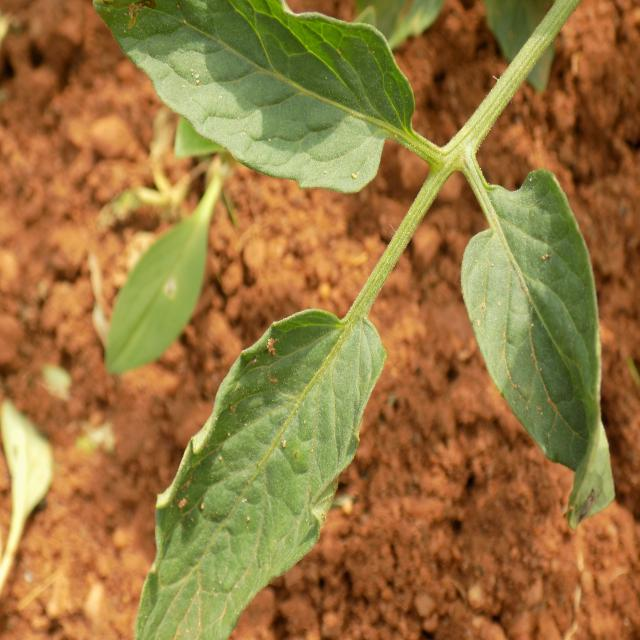tomato_healthy: (131, 308, 388, 640), (461, 168, 640, 528), (90, 0, 417, 194)
